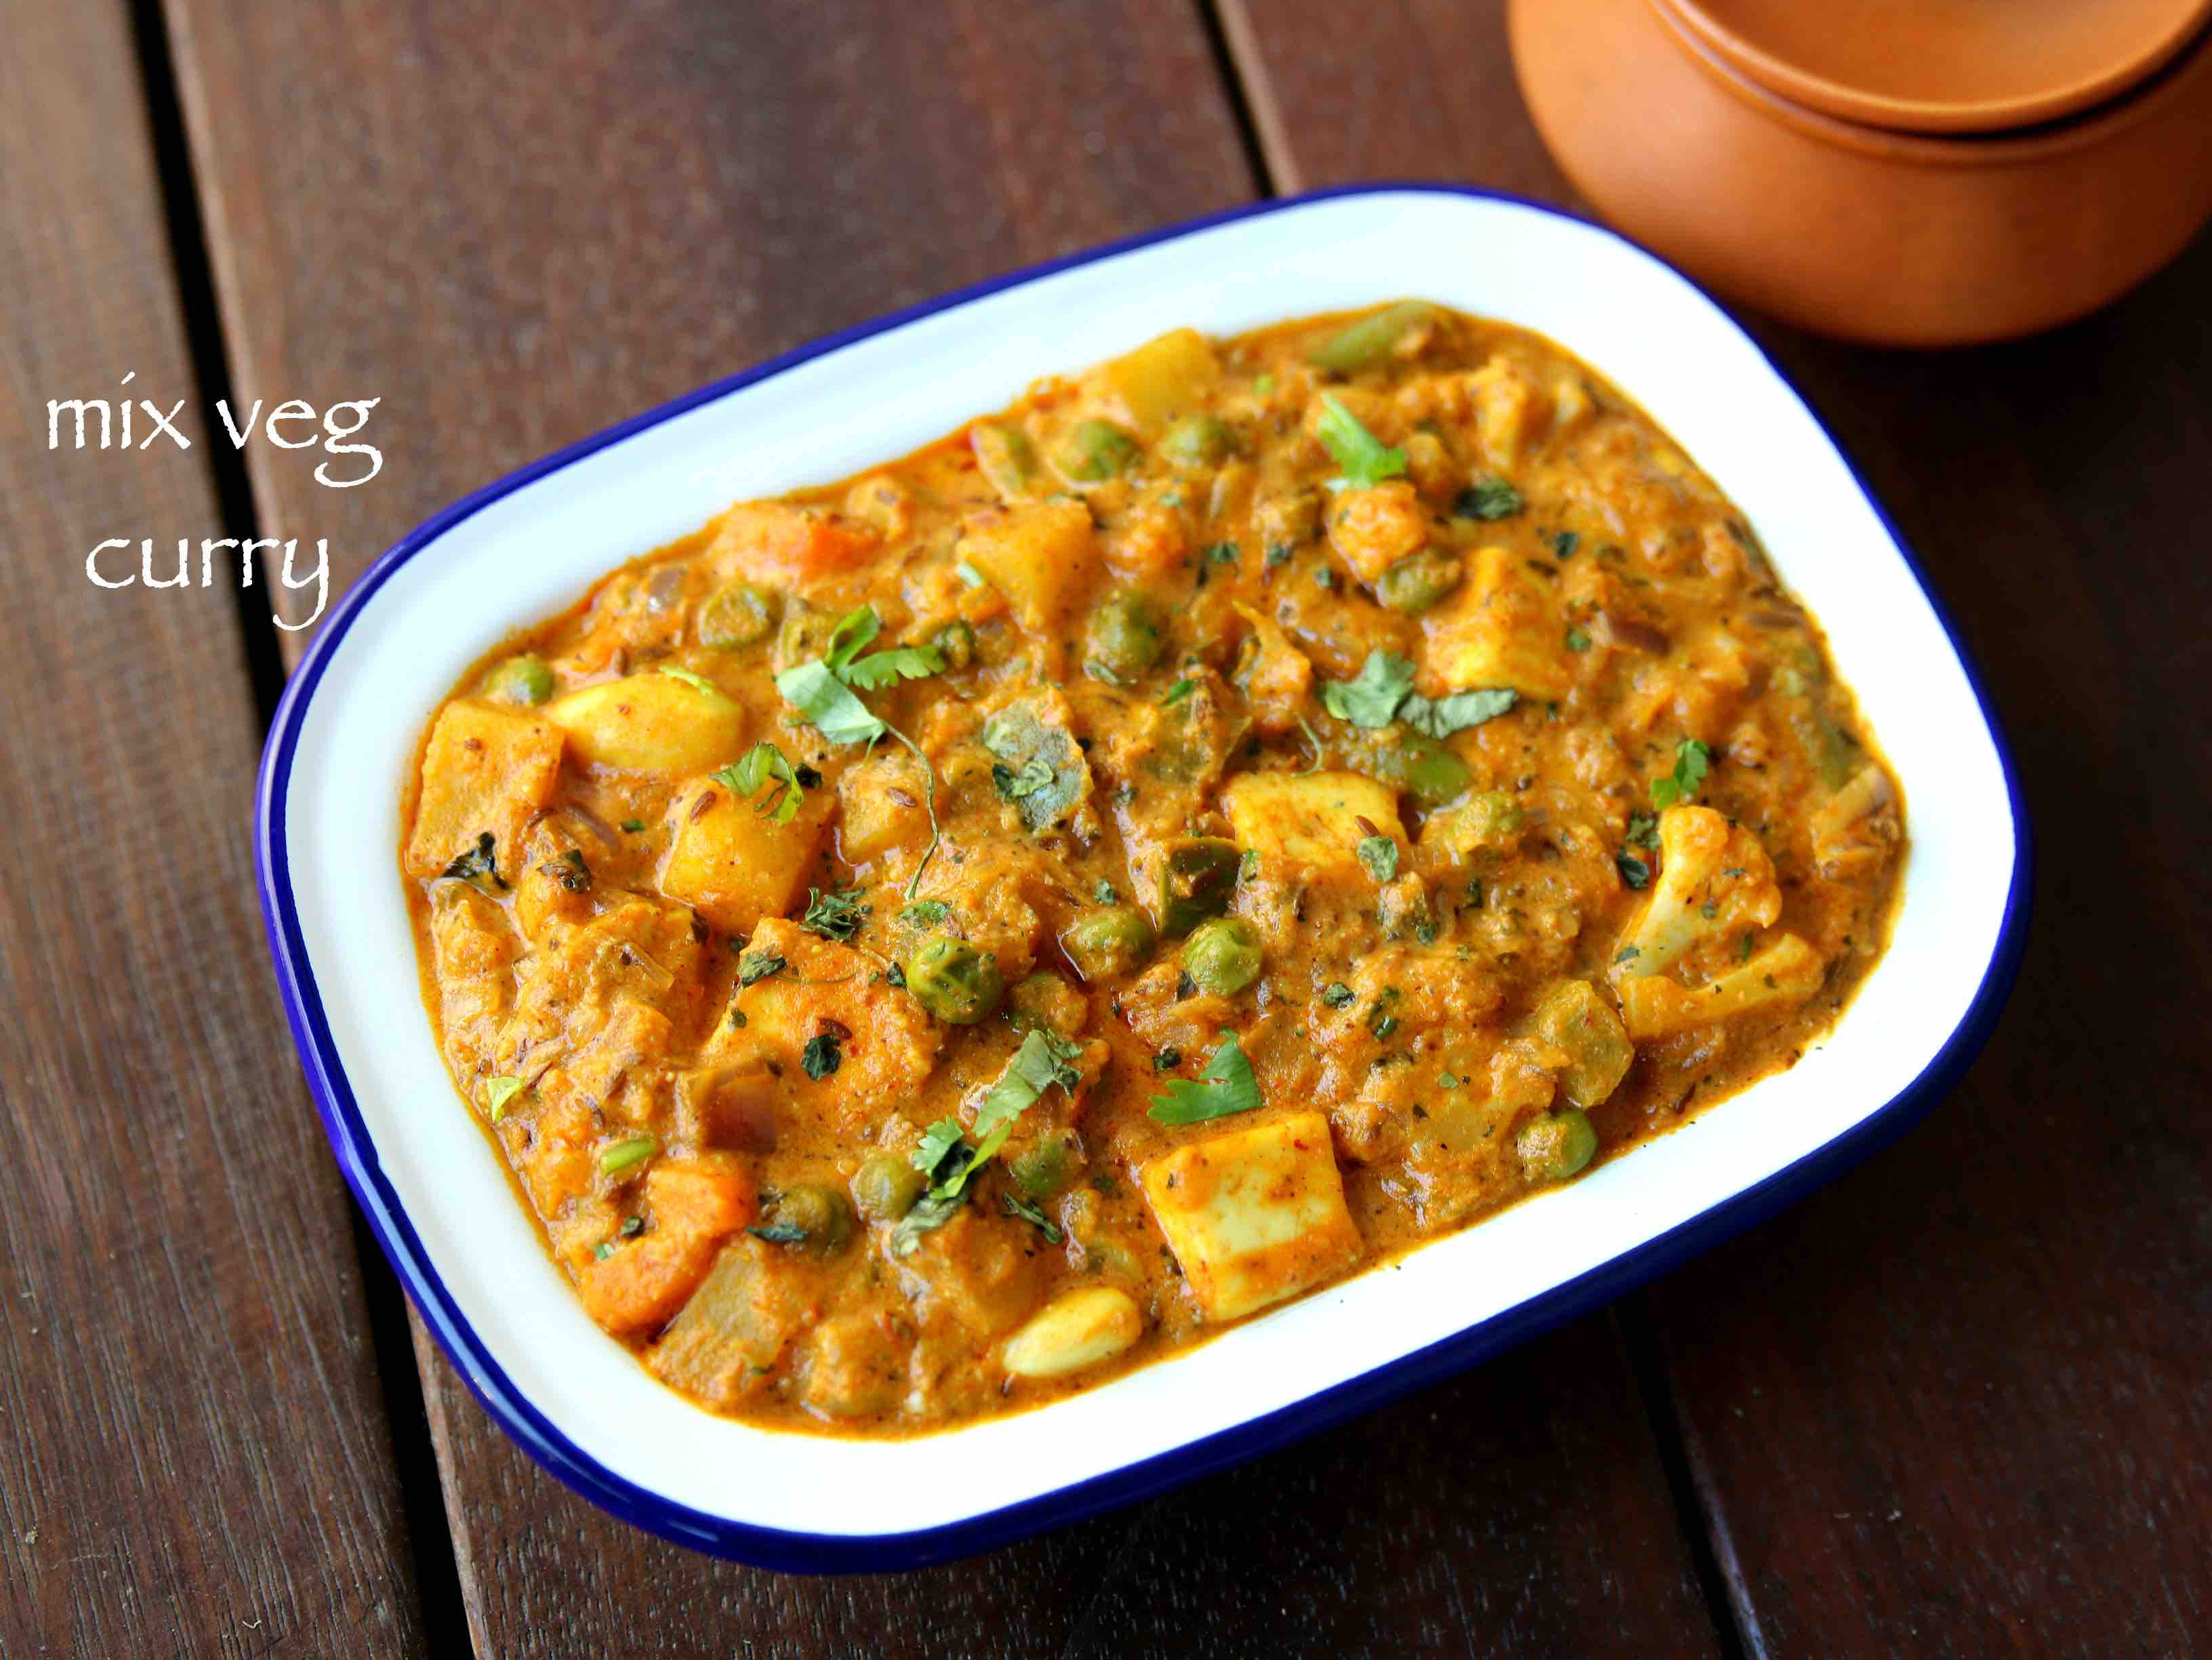curry: (351, 270, 1942, 1473)
